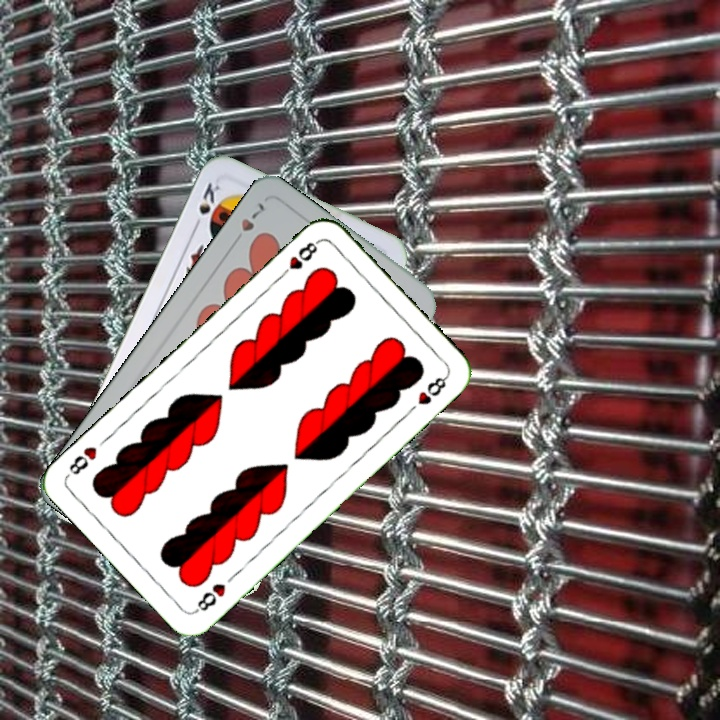H7: (228, 198, 269, 248)
H8: (275, 236, 322, 282), (191, 579, 229, 616)
SK: (189, 178, 223, 233)
